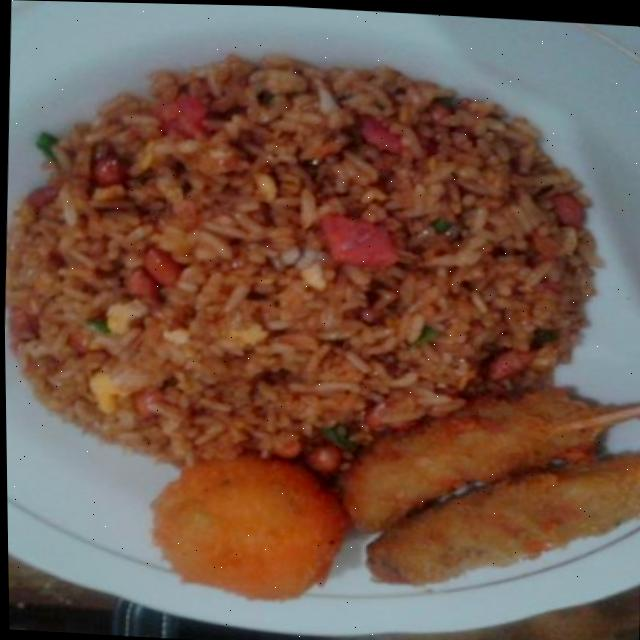米饭主食: (0, 16, 640, 621)
